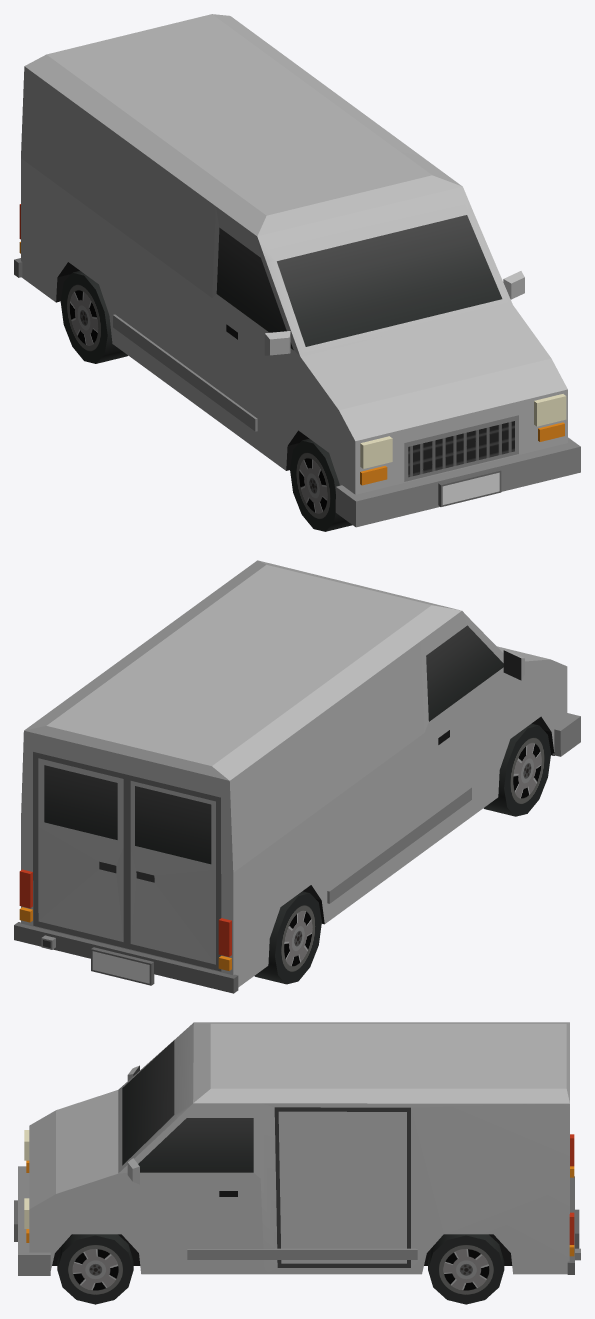
The model's file is VanB.fbx.
The picture shows the model from 3 angles, top to bottom: view 1: azimuth 30°, elevation 25°; view 2: azimuth 150°, elevation 25°; view 3: azimuth 270°, elevation 25°; orthographic projection. The views are drawn at different scales.
Visible parts, largest first — view 1: VanB, TireBR, TireFR; view 2: VanB, TireBR, TireFR; view 3: VanB, TireFL, TireBL.
Boxes of the visible parts, x1,y1,x2,y2 form: VanB: [14, 14, 580, 527]; TireBR: [60, 271, 127, 363]; TireFR: [290, 438, 352, 531]; VanB: [14, 560, 580, 993]; TireBR: [254, 891, 321, 984]; TireFR: [483, 723, 550, 816]; VanB: [14, 1022, 580, 1275]; TireFL: [57, 1234, 133, 1304]; TireBL: [428, 1234, 504, 1304].
Size of the model in its own units: 204 by 194 by 483.
